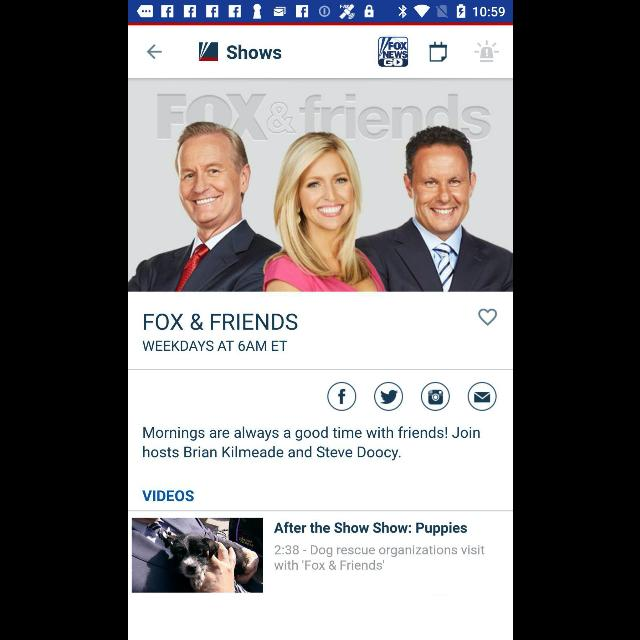icon: (373, 382, 403, 412), (420, 382, 450, 412), (326, 382, 356, 412), (466, 382, 496, 411), (429, 42, 447, 62), (478, 308, 497, 326), (146, 44, 162, 60)
image: (128, 78, 512, 292), (132, 518, 262, 592), (377, 37, 407, 67), (474, 41, 498, 63), (198, 42, 218, 62)
text: (142, 426, 480, 462), (274, 544, 484, 570), (274, 522, 466, 536), (143, 314, 297, 331), (142, 341, 288, 352), (227, 44, 281, 60), (141, 490, 193, 502)
uppertaskbar: (128, 1, 512, 23)
